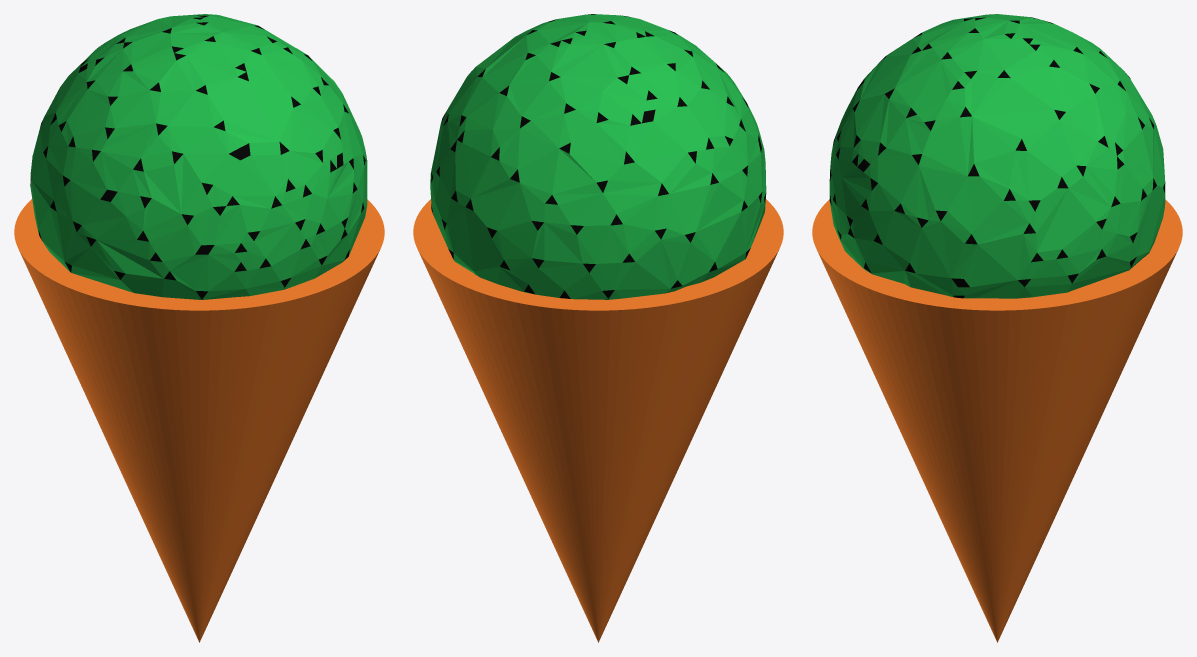
Rendered from icecream.glb.
The picture shows the model from 3 angles, left to right: view 1: azimuth 30°, elevation 25°; view 2: azimuth 150°, elevation 25°; view 3: azimuth 270°, elevation 25°; orthographic projection.
Bounding box in the file's own units: 90 × 164 × 90.
